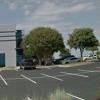Tree: (21, 13, 100, 65)
